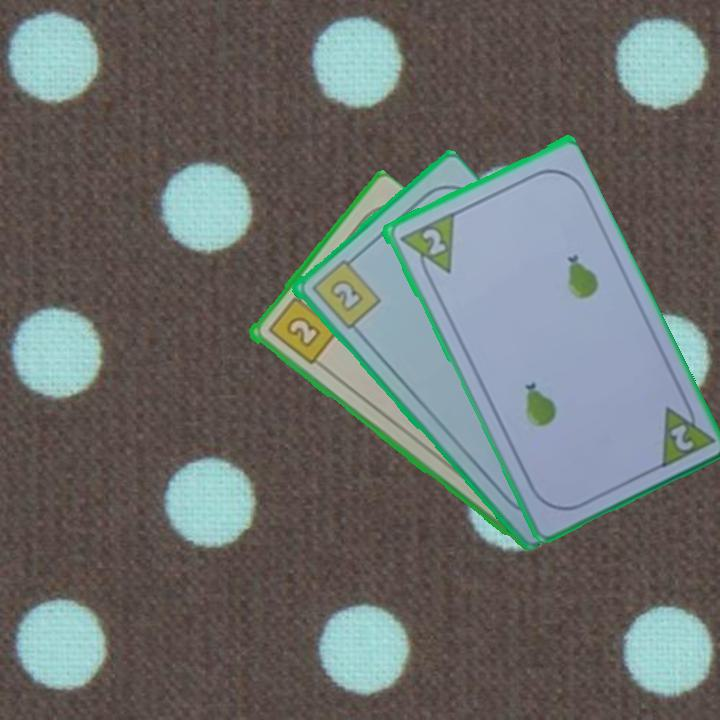2b: (264, 287, 340, 368), (307, 252, 383, 332)
2p: (417, 224, 448, 258), (666, 420, 696, 454)
